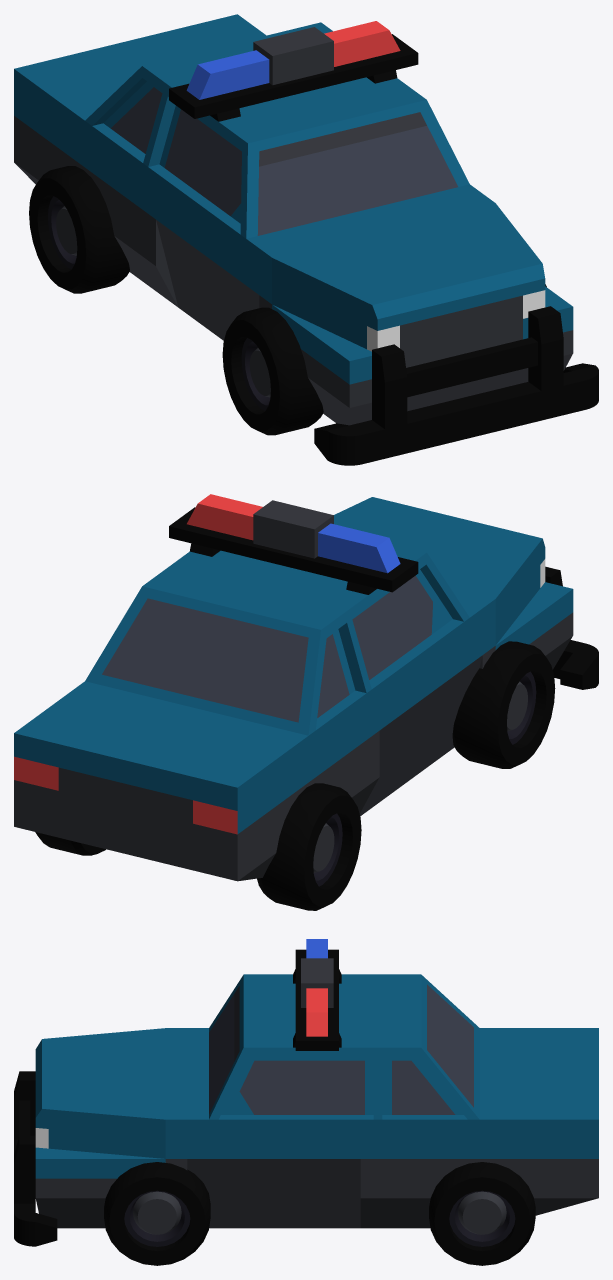
The model's file is patrol.fbx.
3 views of the same model, one above another, from view 1: azimuth 30°, elevation 25°; view 2: azimuth 150°, elevation 25°; view 3: azimuth 270°, elevation 25° (orthographic). The views are drawn at different scales.
Visible parts, largest first — view 1: mergedBlocks; view 2: mergedBlocks; view 3: mergedBlocks.
Part boxes in pixels (x1,y1,x2,y2): mergedBlocks: [14, 14, 598, 465]; mergedBlocks: [14, 494, 598, 910]; mergedBlocks: [14, 939, 598, 1265].
Bounding box in the file's own units: 12.33 × 12.33 × 27.
